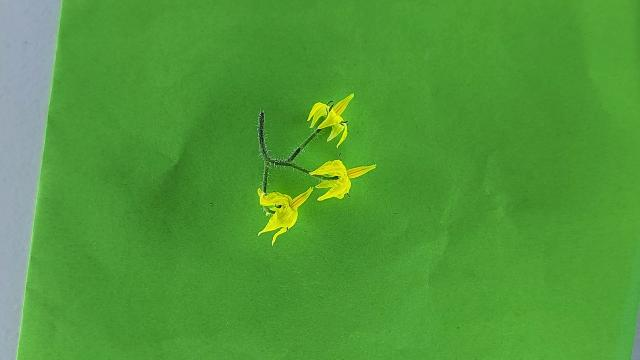Anthesis: (255, 184, 314, 245), (308, 155, 377, 201), (307, 92, 355, 148)
